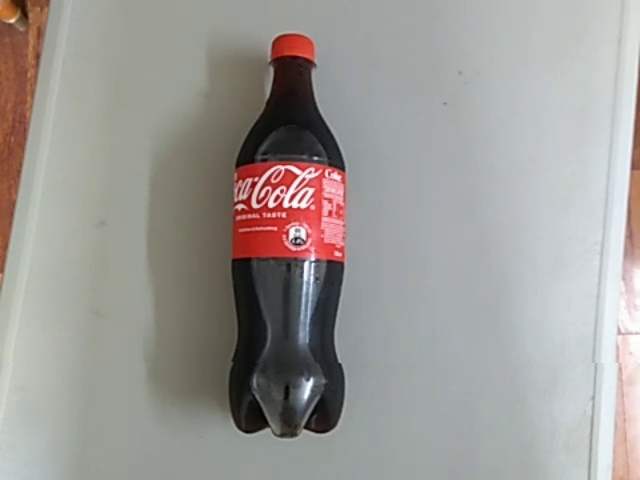Cocacola: (207, 16, 394, 448)
